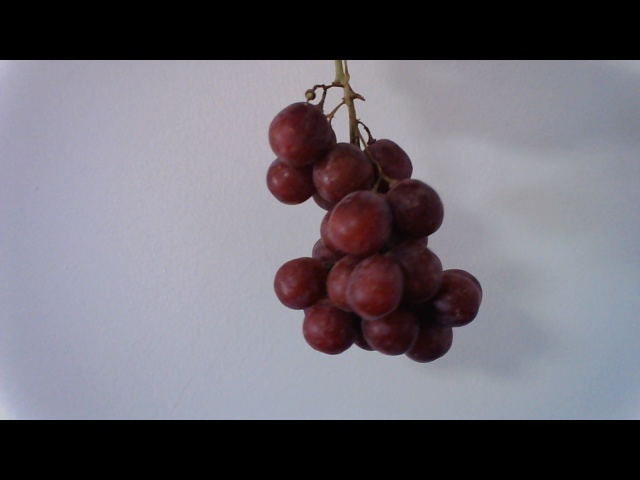grape: (234, 99, 493, 364)
